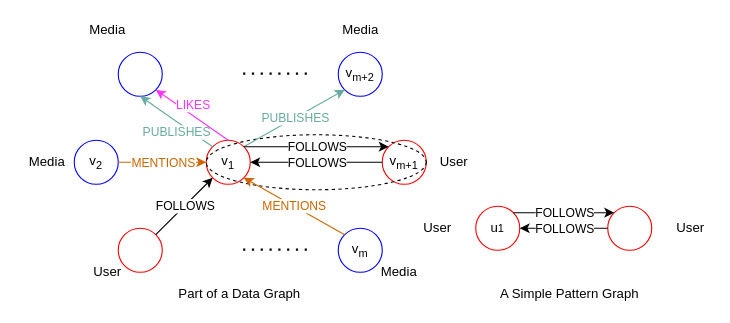
The diagram is 730 pixels wide and 323 high, and some of its shapes have lost their labels. Each missing label, with the centre of its shape:
"u 2" goes at point (629, 227).
"v 3" goes at point (139, 249).
"v m+n" goes at point (139, 73).
